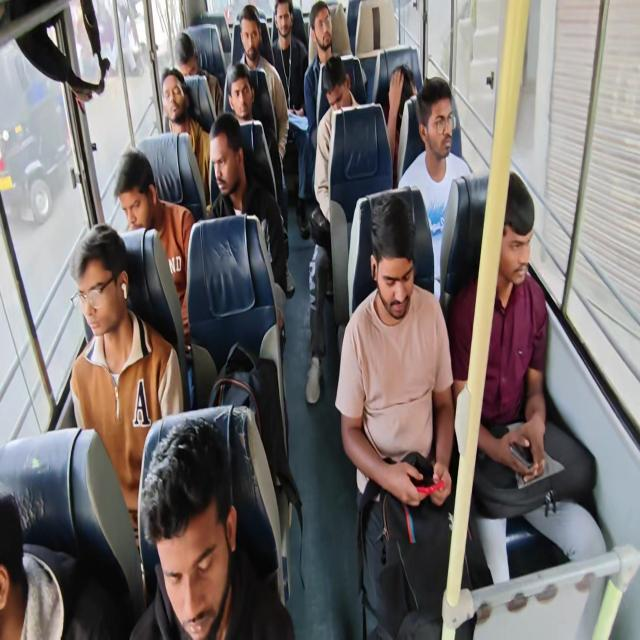person: (461, 164, 566, 401), (359, 216, 464, 444), (149, 428, 239, 640), (72, 222, 148, 418), (114, 137, 181, 261), (319, 51, 382, 163), (0, 459, 37, 640), (206, 138, 266, 247), (413, 91, 449, 196), (158, 72, 192, 150), (227, 72, 263, 136), (392, 72, 422, 140), (275, 0, 301, 70), (242, 10, 265, 66), (311, 0, 333, 56), (172, 30, 195, 79)
